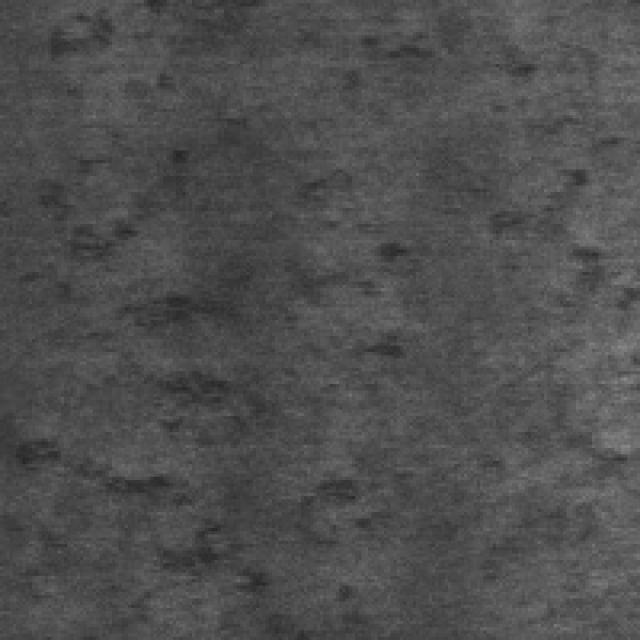rolled-in_scale: (35, 141, 384, 573)
